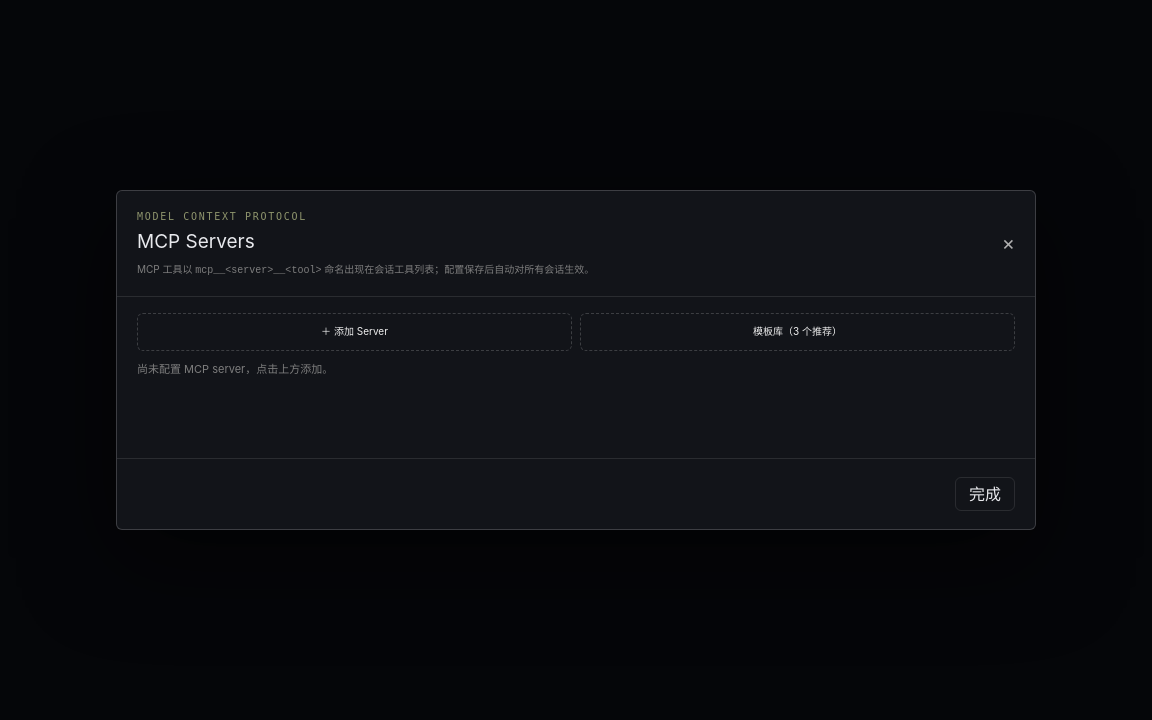
Test case: McpConfig 模板库（M4.2） › adds a credential-free template in one click
The width and height of the screenshot is (1152, 720).
Click the button "模板库（3 个推荐）" at (798, 332), box 580,312 -> 1015,350
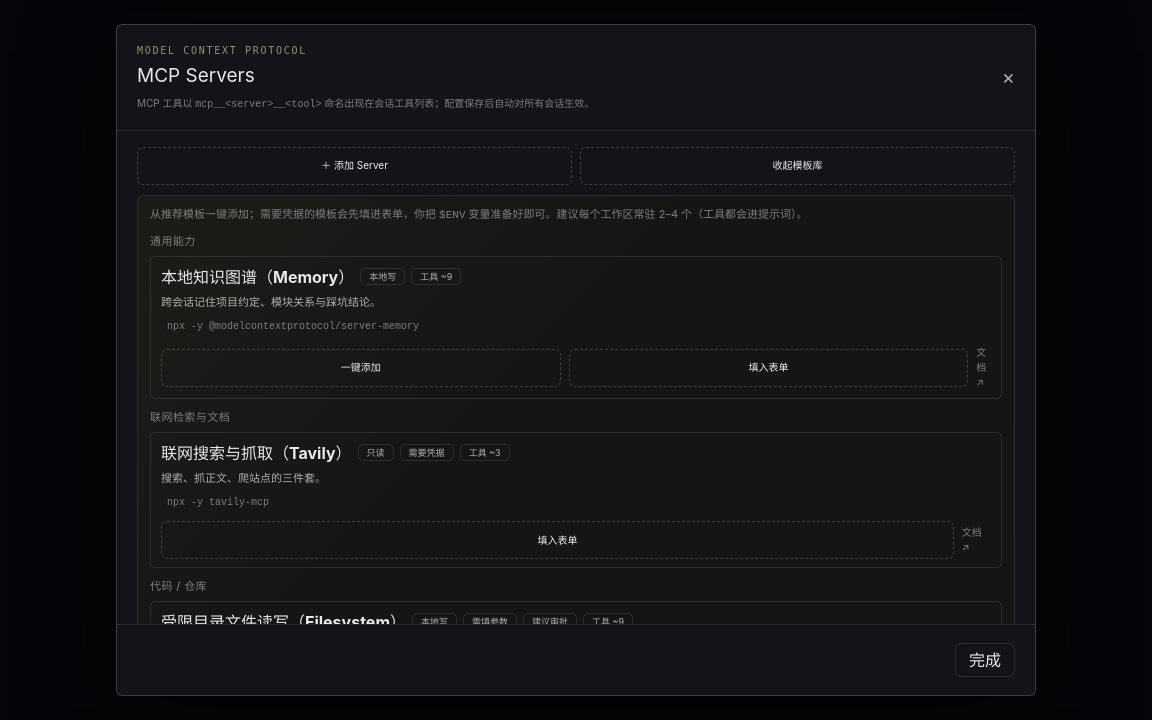
Click the button "一键添加" at (361, 368), box 161,348 -> 561,386
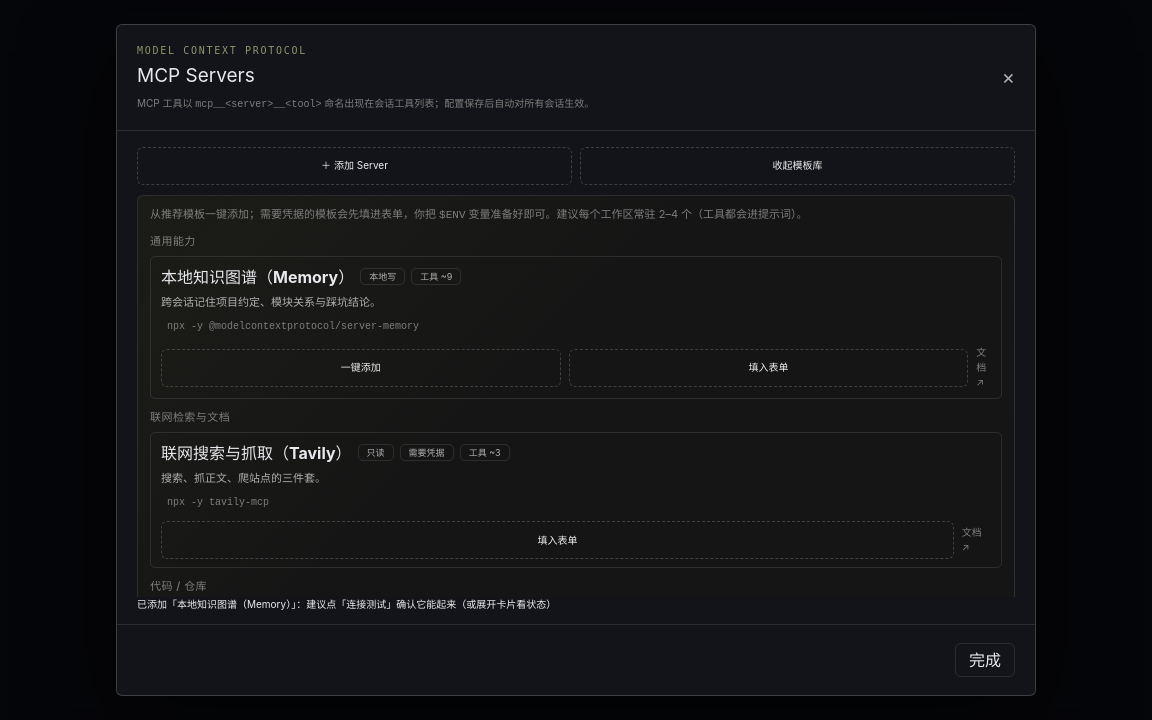
Expected: the text "已添加" is shown, 137,598 -> 556,610
